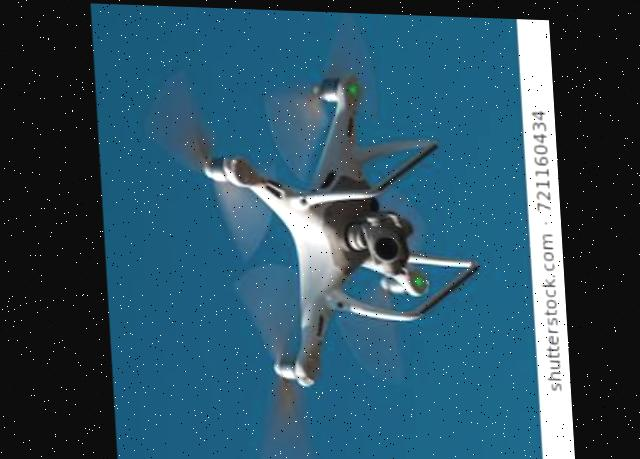drone: (126, 24, 516, 459)
